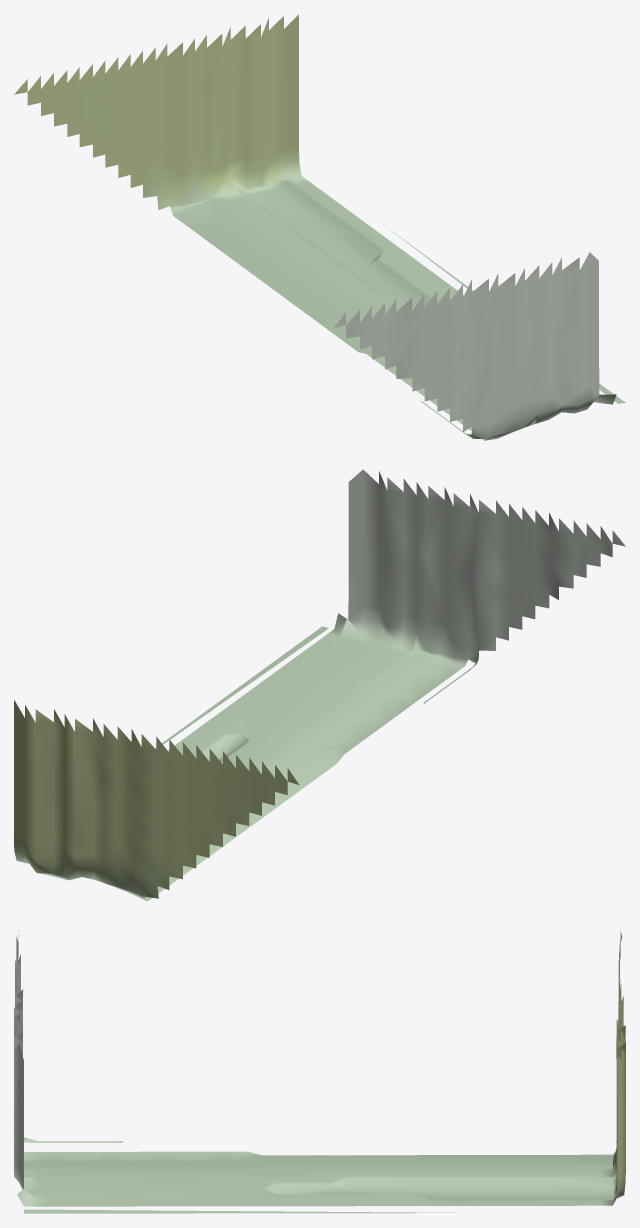
File: tile_7e4ccbd5fe0e_0_0_-2_0_lod1.glb
The picture shows the model from 3 angles, top to bottom: view 1: azimuth 30°, elevation 25°; view 2: azimuth 150°, elevation 25°; view 3: azimuth 270°, elevation 25°; orthographic projection. The views are drawn at different scales.
Size of the model in its own units: 1.84 by 1.01 by 3.49.
